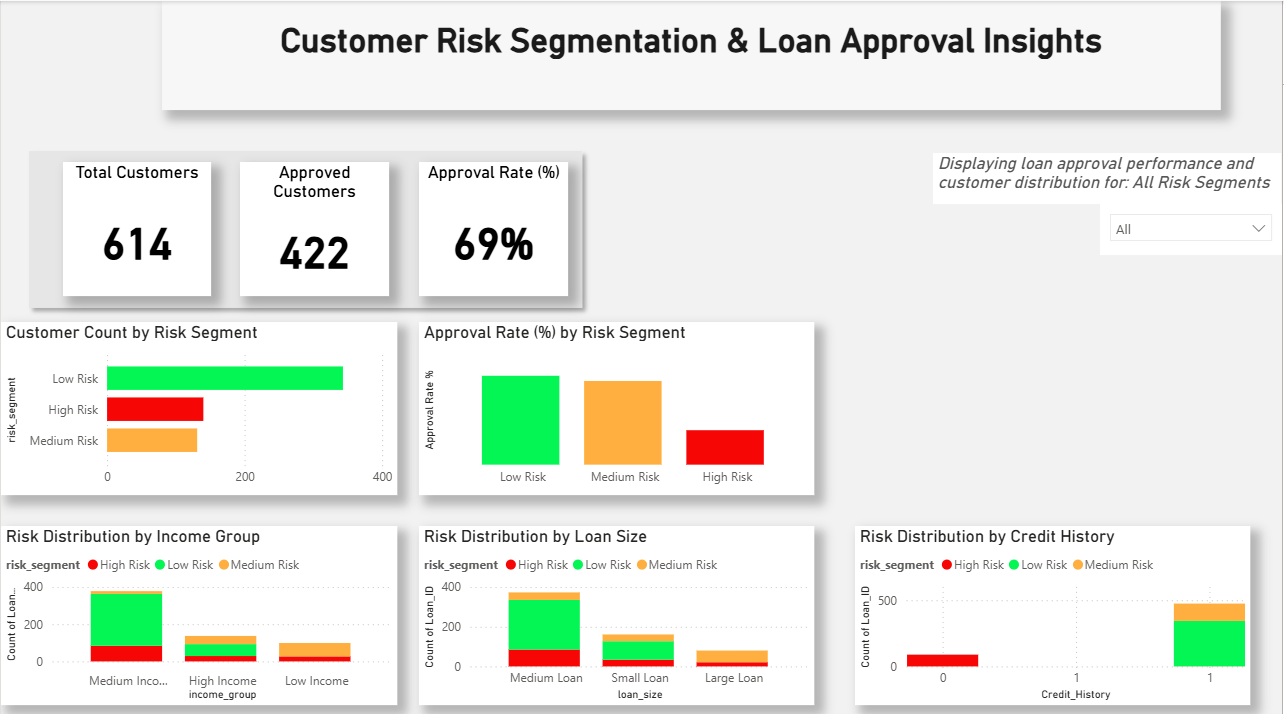

This screenshot's page, from the dashboard's own definition file:
{"tool":"powerbi","page":{"name":"Page 1","canvas":[1280,720],"ordinal":0},"visuals":[{"type":"shape","box":[19.2,141,570.6,174.8],"z":0},{"type":"barChart","title":"Customer Count by Risk Segment","fields":{"Category":["RiskModel.risk_segment"],"Y":["CountNonNull(RiskModel.Loan_ID)"]},"box":[0,320.3,395.8,172.5],"z":1000},{"type":"columnChart","title":"Approval Rate (%) by Risk Segment","fields":{"Category":["RiskModel.risk_segment"],"Y":["RiskModel.Approval Rate (%)"]},"box":[417.3,320.3,394.7,172.5],"z":2000},{"type":"columnChart","title":"Risk Distribution by Income Group","fields":{"Category":["RiskModel.income_group"],"Y":["CountNonNull(RiskModel.Loan_ID)"],"Series":["RiskModel.risk_segment"]},"box":[0,524.4,395.8,179.3],"z":3000},{"type":"columnChart","title":"Risk Distribution by Loan Size","fields":{"Category":["RiskModel.loan_size"],"Y":["CountNonNull(RiskModel.Loan_ID)"],"Series":["RiskModel.risk_segment"]},"box":[417.3,524.4,395,179.3],"z":4000},{"type":"columnChart","title":"Risk Distribution by Credit History","fields":{"Category":["RiskModel.Credit_History"],"Y":["CountNonNull(RiskModel.Loan_ID)"],"Series":["RiskModel.risk_segment"]},"box":[853.7,524.4,394.7,179.3],"z":5000},{"type":"card","title":"Total Customers","fields":{"Values":["RiskModel.Total Customers"]},"box":[62,161.3,147.7,134.2],"z":6000},{"type":"card","title":"Approved Customers","fields":{"Values":["RiskModel.Approved Customers"]},"box":[239.1,161.3,148.9,134.2],"z":7000},{"type":"card","title":"Approval Rate (%)","fields":{"Values":["RiskModel.Approval Rate (%)"]},"box":[417.3,161.3,148.9,134.2],"z":8000},{"type":"slicer","fields":{"Values":["RiskModel.risk_segment"]},"box":[1098.4,203,181.6,50.7],"z":9000},{"type":"textbox","box":[161.3,0,1057.8,109.4],"z":10000},{"type":"textbox","box":[931.5,152.2,348.5,50.7],"z":11000}]}

Visuals, with their boxes in screenshot pixels (x1, y1, x2, y2), scaled from the page's 1280x720 canvas onto the 1284x714 screenshot:
shape: select_region(19, 140, 592, 313)
"Customer Count by Risk Segment" barChart: select_region(0, 318, 397, 489)
"Approval Rate (%) by Risk Segment" columnChart: select_region(419, 318, 815, 489)
"Risk Distribution by Income Group" columnChart: select_region(0, 520, 397, 698)
"Risk Distribution by Loan Size" columnChart: select_region(419, 520, 815, 698)
"Risk Distribution by Credit History" columnChart: select_region(856, 520, 1252, 698)
"Total Customers" card: select_region(62, 160, 210, 293)
"Approved Customers" card: select_region(240, 160, 389, 293)
"Approval Rate (%)" card: select_region(419, 160, 568, 293)
slicer - RiskModel.risk_segment: select_region(1102, 201, 1283, 252)
textbox: select_region(162, 0, 1223, 108)
textbox: select_region(934, 151, 1283, 201)
